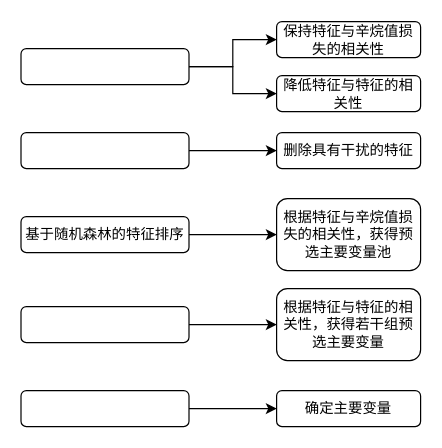
Image size: 442x448. Some labels were removed from this diagram. The centre of each missing label's shape, as x and y in pixels:
"特征预处理" goes at point 104,150.
"距离相关系数法" goes at point 104,324.
"问题分析：特征降维" goes at point 104,66.
"高斯过程回归" goes at point 104,408.
